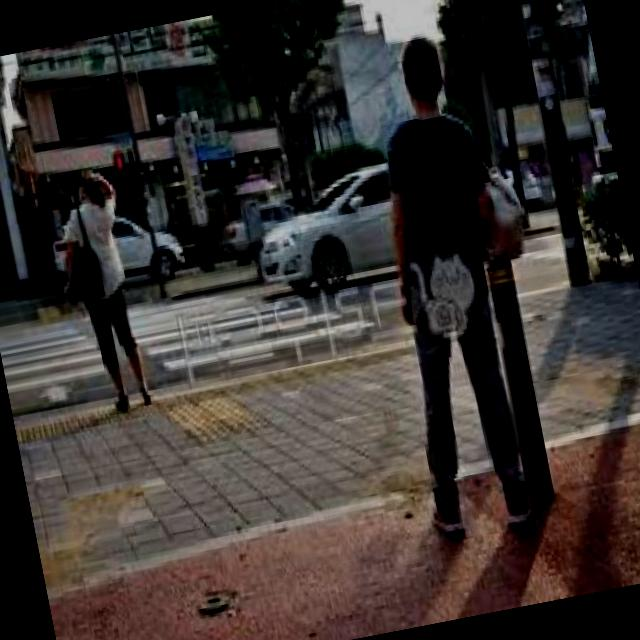Person: (339, 28, 552, 540), (44, 169, 157, 422)
